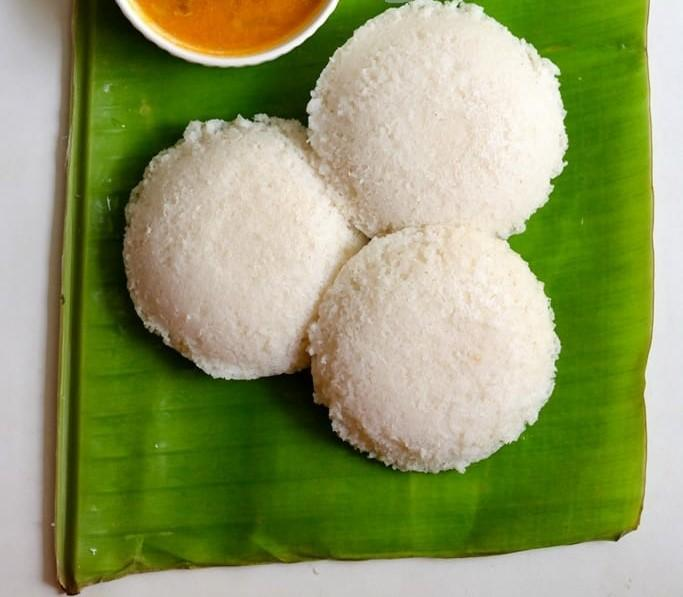Idli: (311, 3, 568, 254), (306, 226, 562, 473), (123, 114, 347, 380)
